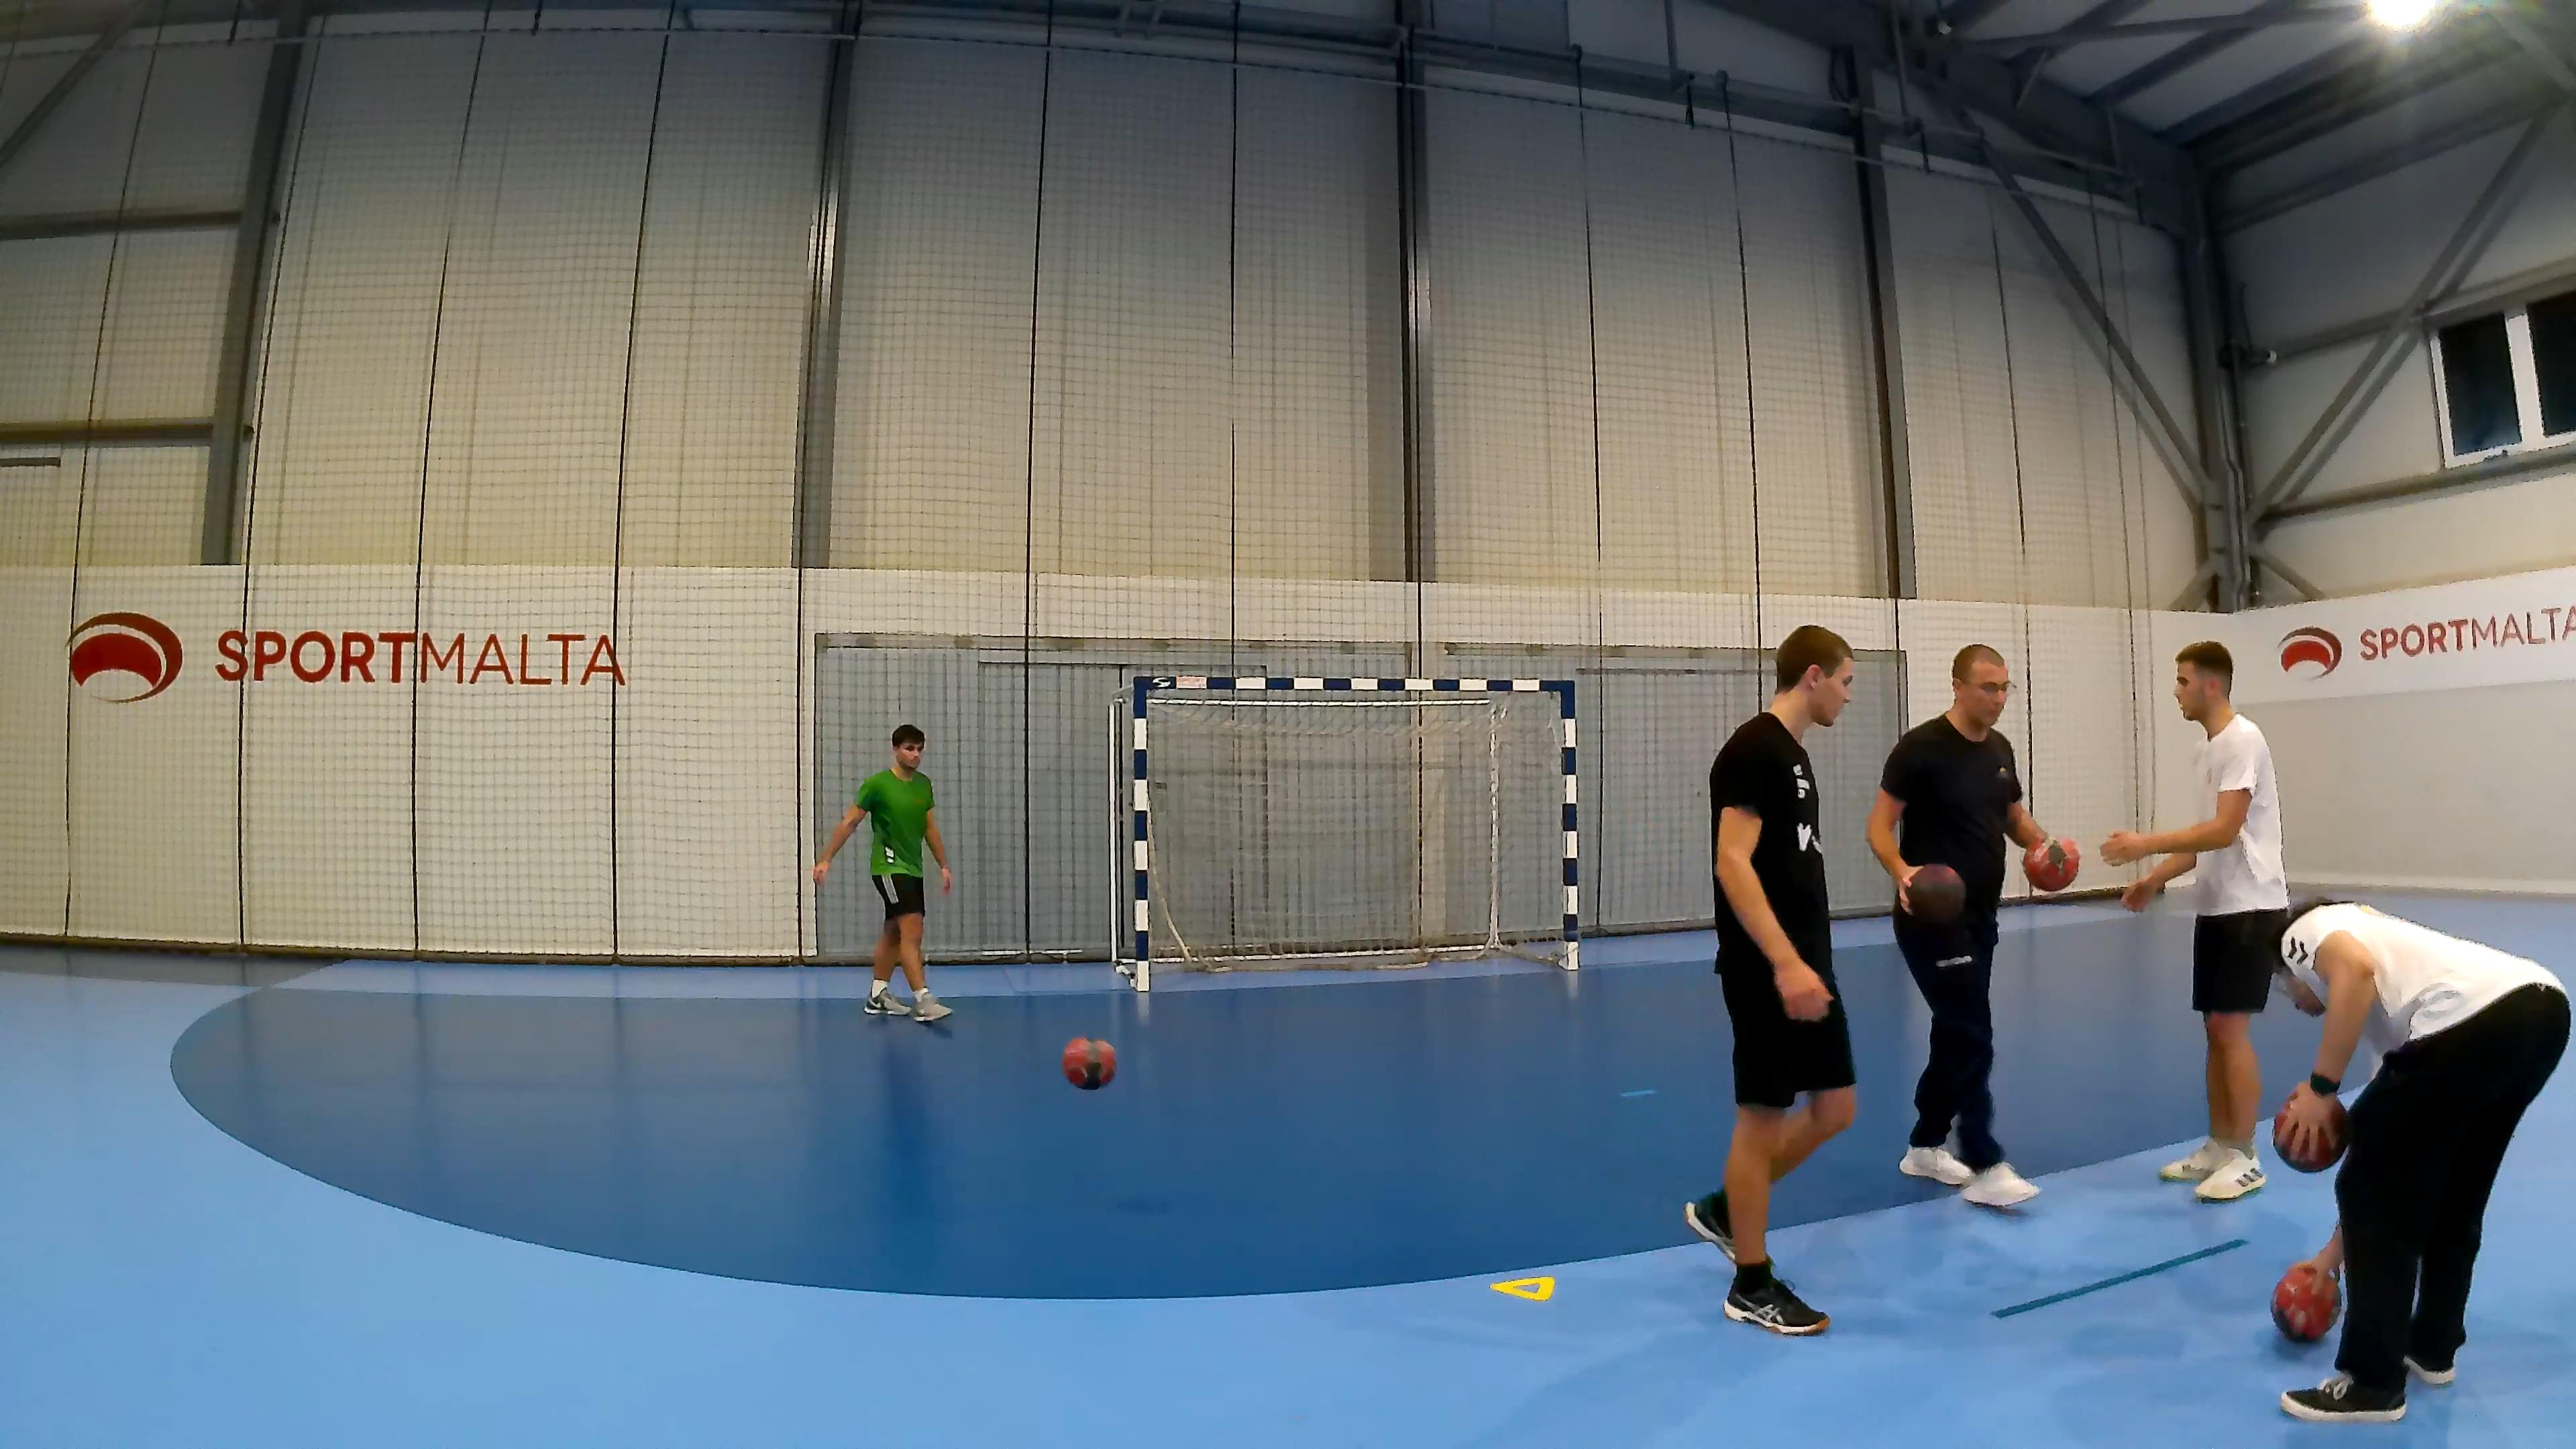handball: (2270, 1260, 2339, 1341), (1904, 862, 1966, 925), (2020, 835, 2079, 892), (1060, 1035, 1116, 1088)
